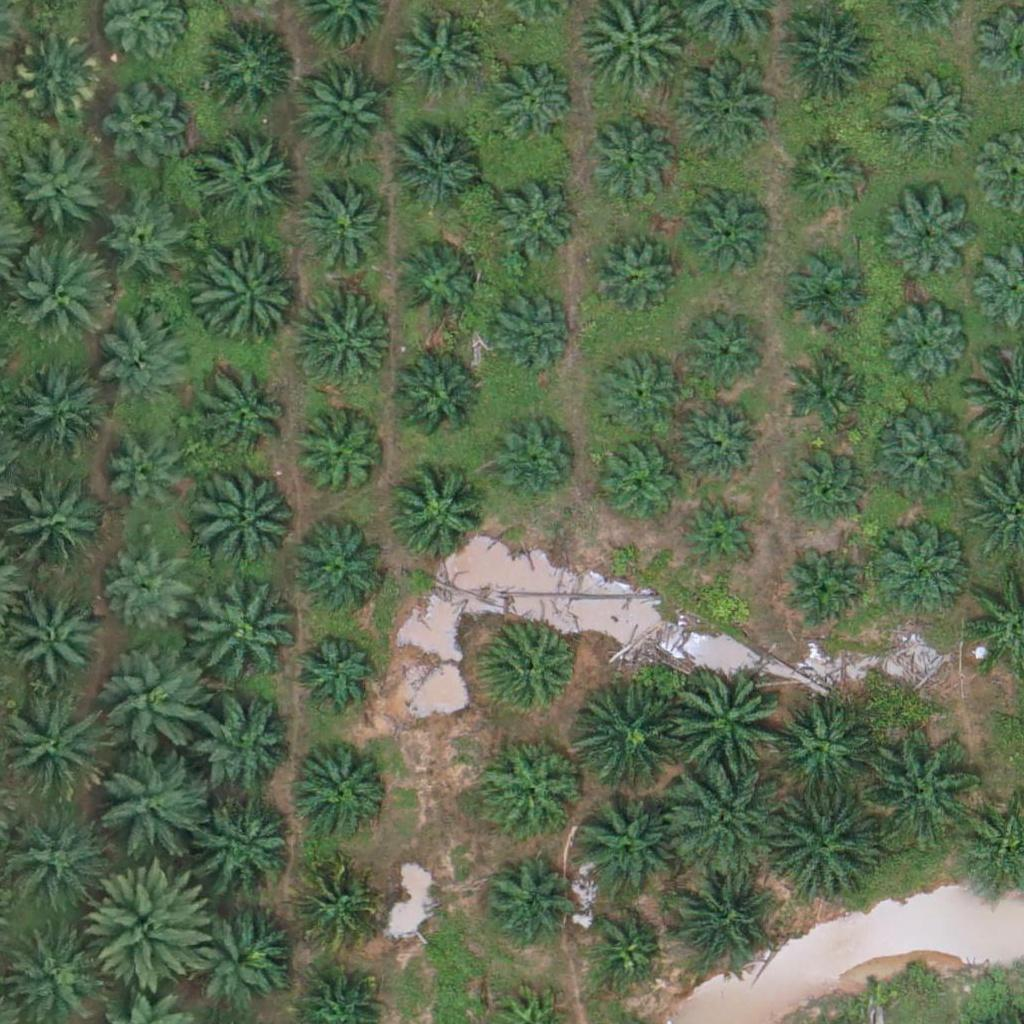Kelapa_Sawit: (90, 865, 215, 991), (764, 789, 877, 903), (92, 743, 205, 857), (765, 6, 878, 119), (571, 685, 684, 798), (186, 574, 299, 687), (99, 649, 212, 762), (192, 459, 304, 573), (864, 731, 976, 844), (672, 764, 784, 877), (671, 668, 783, 781), (6, 241, 118, 354), (572, 794, 672, 895), (292, 736, 392, 837), (199, 795, 299, 896), (870, 414, 970, 515), (671, 60, 771, 161), (771, 695, 871, 796), (390, 118, 490, 219), (386, 350, 486, 451), (387, 466, 487, 567), (296, 294, 396, 395), (200, 22, 300, 123), (196, 134, 296, 235), (196, 250, 296, 351), (5, 588, 105, 689), (11, 139, 111, 240), (670, 869, 770, 969), (483, 737, 583, 837), (194, 702, 294, 802), (184, 902, 284, 1002), (869, 520, 969, 620), (481, 622, 581, 722), (296, 61, 396, 161), (289, 522, 389, 622), (198, 366, 298, 466), (99, 310, 199, 410), (6, 366, 106, 466), (480, 854, 568, 942), (291, 860, 379, 948), (882, 200, 970, 288), (882, 301, 970, 389), (485, 53, 573, 141), (489, 181, 577, 269), (482, 283, 570, 371), (584, 231, 672, 319), (682, 186, 770, 274), (781, 549, 869, 637), (783, 132, 871, 220), (398, 14, 486, 102), (298, 416, 386, 504), (290, 629, 378, 717), (489, 418, 576, 506), (599, 435, 686, 523), (595, 350, 682, 438), (586, 114, 673, 202), (680, 311, 767, 399), (681, 395, 768, 483), (779, 439, 866, 527), (787, 342, 874, 430), (779, 245, 866, 333), (885, 77, 972, 165), (394, 236, 481, 324), (303, 180, 390, 268), (106, 82, 193, 170), (103, 199, 190, 287), (103, 443, 190, 531), (108, 548, 195, 636), (13, 35, 100, 123), (682, 492, 757, 568), (587, 911, 662, 986)
